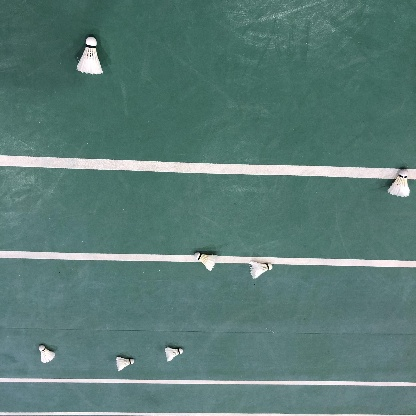ball_single: (77, 37, 103, 74), (388, 169, 410, 197), (194, 252, 217, 271), (249, 261, 272, 279), (39, 345, 55, 363), (164, 347, 183, 362), (116, 357, 134, 371)
